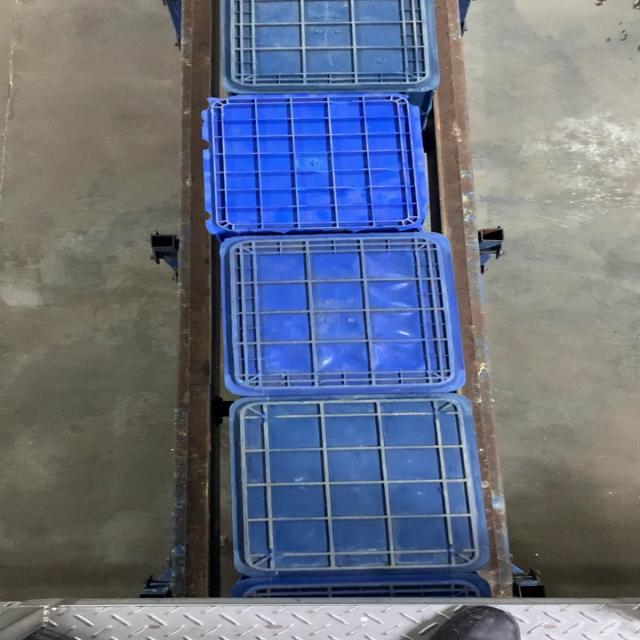Box: (226, 396, 493, 579), (215, 234, 471, 395)
Damaged_box: (200, 92, 431, 233)
